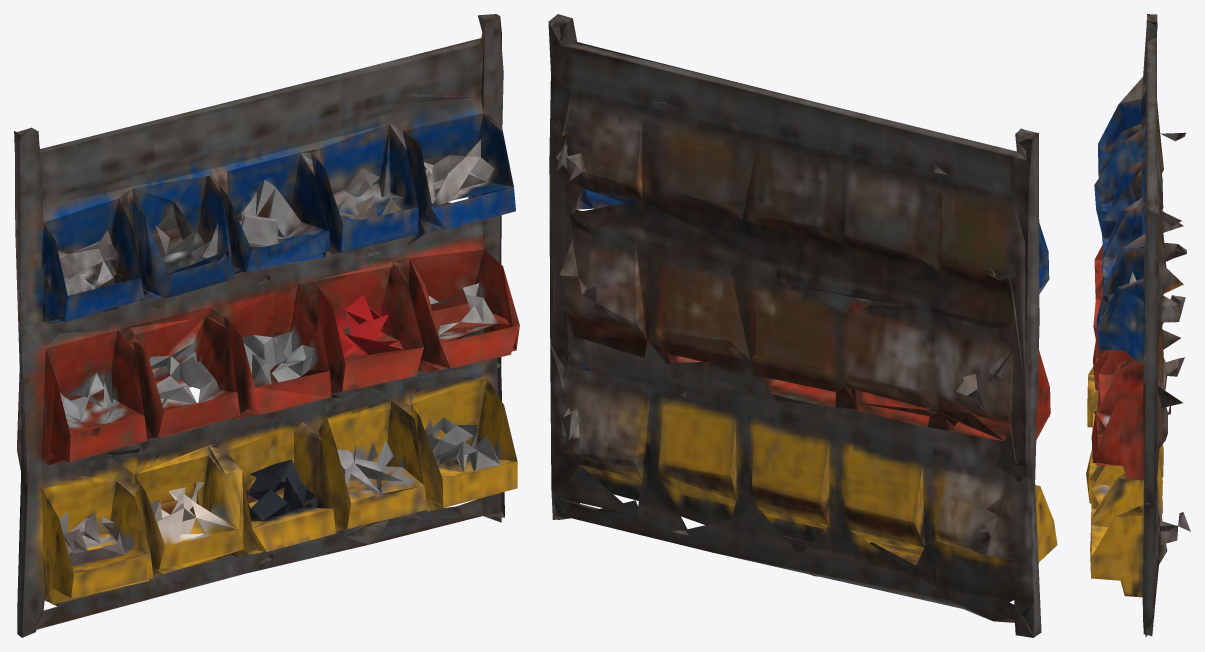
The model's file is p7-parts-bin-rack.glb.
The picture shows the model from 3 angles, left to right: view 1: azimuth 30°, elevation 25°; view 2: azimuth 150°, elevation 25°; view 3: azimuth 270°, elevation 25°; orthographic projection. The views are drawn at different scales.
Visible parts, largest first — view 1: p7-parts-bin-rack; view 2: p7-parts-bin-rack; view 3: p7-parts-bin-rack.
Part boxes in pixels (<box>): p7-parts-bin-rack: <box>14,14,519,637</box>; p7-parts-bin-rack: <box>548,14,1057,637</box>; p7-parts-bin-rack: <box>1086,14,1190,636</box>.
Size of the model in its own units: 0.9 by 0.9 by 0.2.
Materials: 1 (1 with a texture image).
